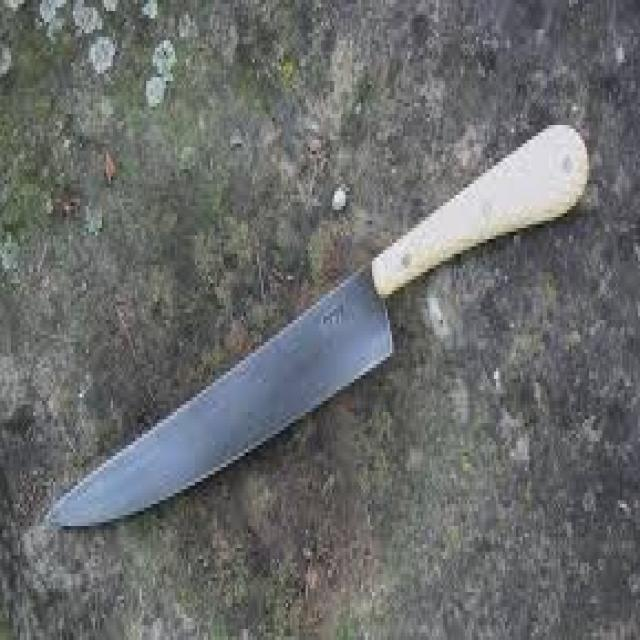knives: (42, 110, 596, 541)
